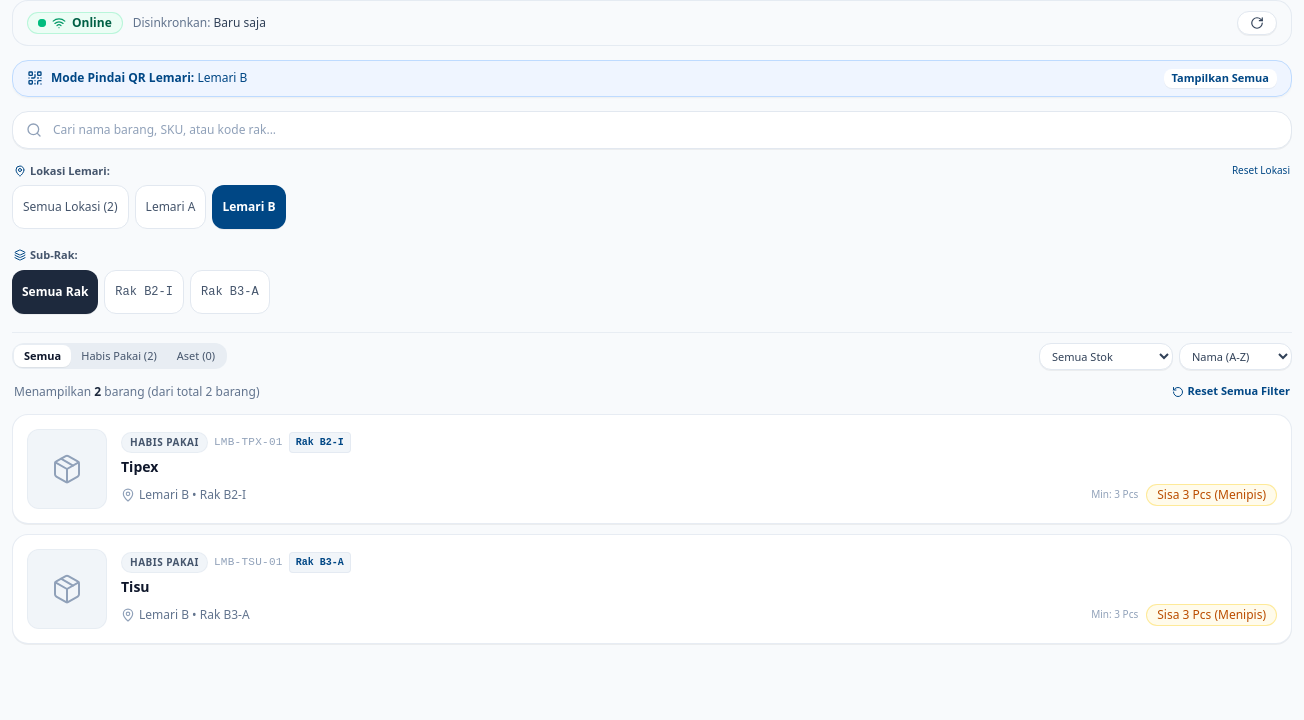
PWA Cabinet -> Multi-Rack Architecture › filters by cabinet QR location and sub-rack chips inside CatalogView
This screenshot has width=1304, height=720.
Expected: the element with test id "qr-landing-banner" is shown, [12, 60, 1292, 97]
Expected: the heading "Tipex" is shown, [121, 456, 158, 476]
Note: Tap sub-rack chip Rak B2-I
Click the button with test id "rack-chip-B2-I". click: (144, 292)
box: [104, 270, 184, 314]
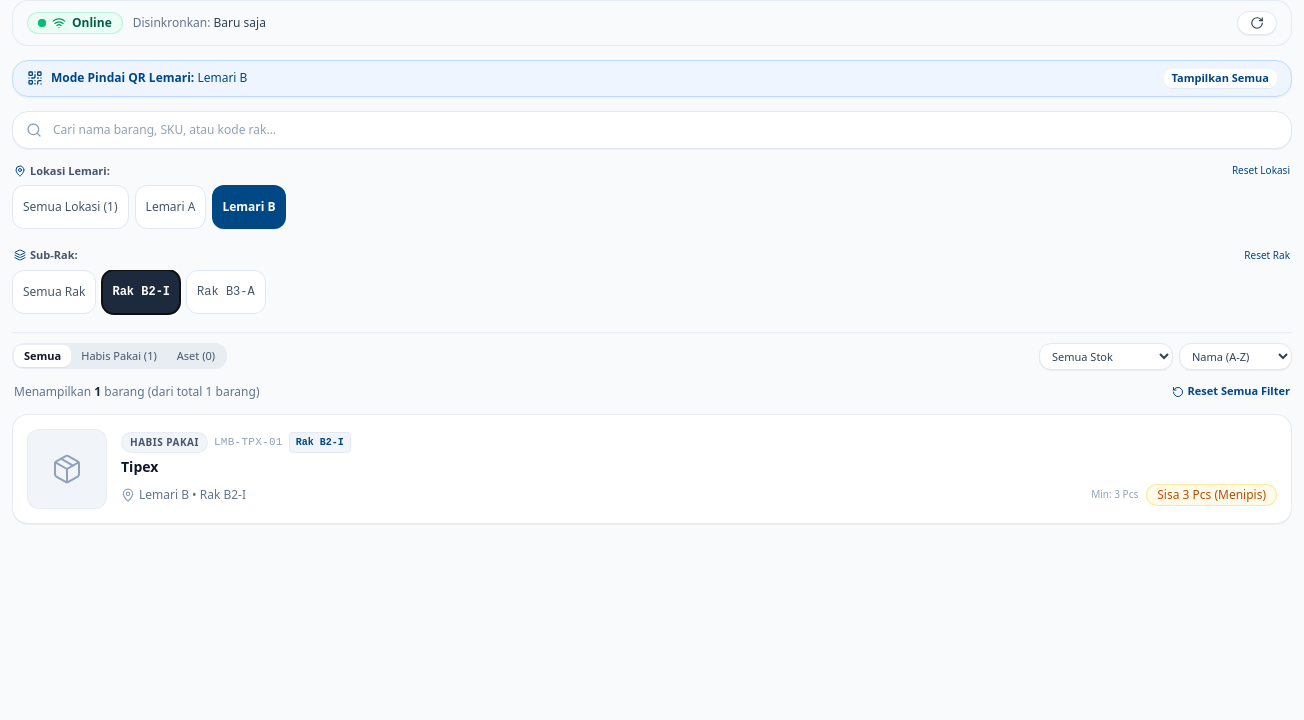
Expected: the heading "Tipex" is shown, [121, 456, 158, 476]
Expected: the button "Tisu" is gone
